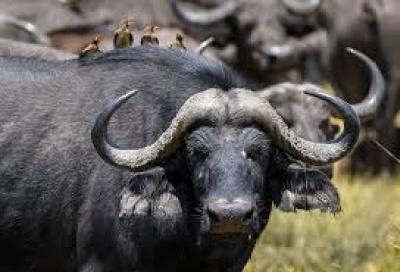buffalo: (0, 46, 358, 271)
